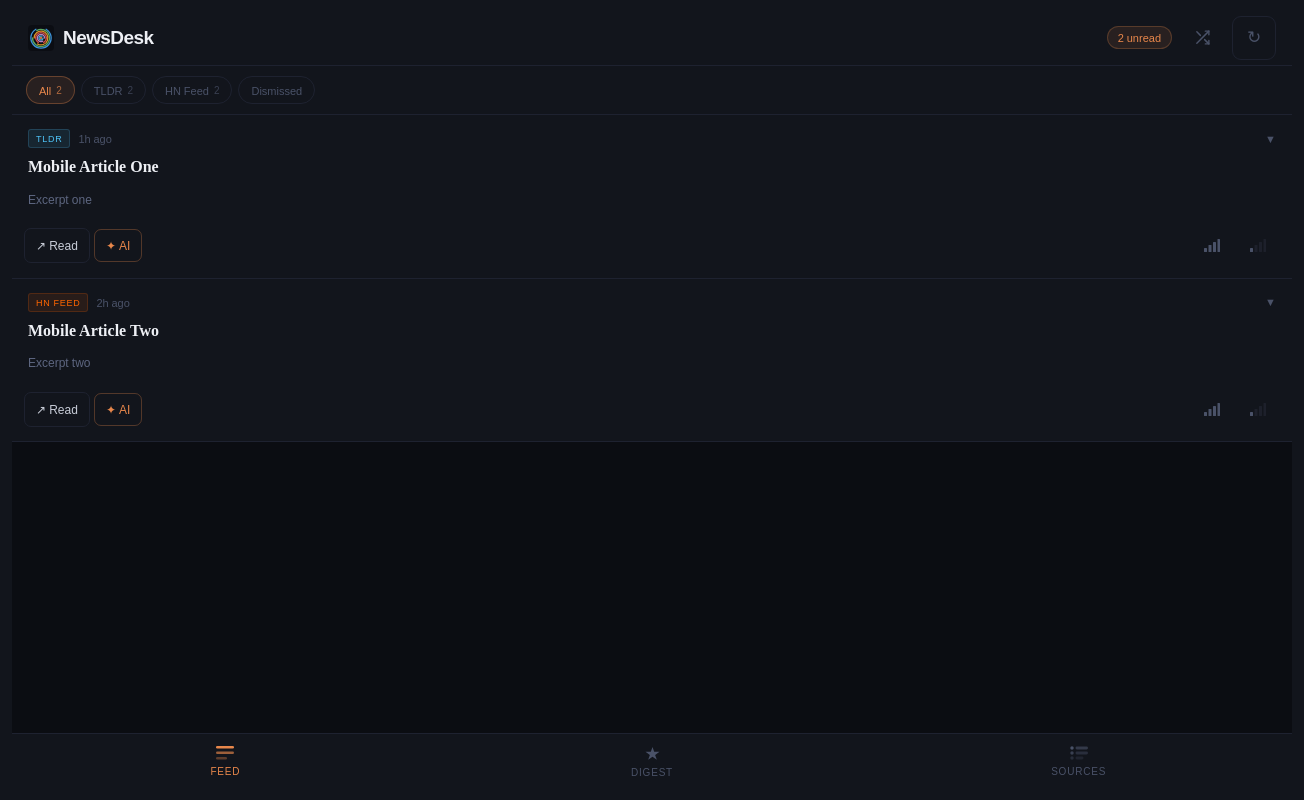
MobileApp — sources tab › shows '+ Add RSS source' button
Click the button "Sources".
click(1079, 762)  # box [865, 734, 1292, 790]
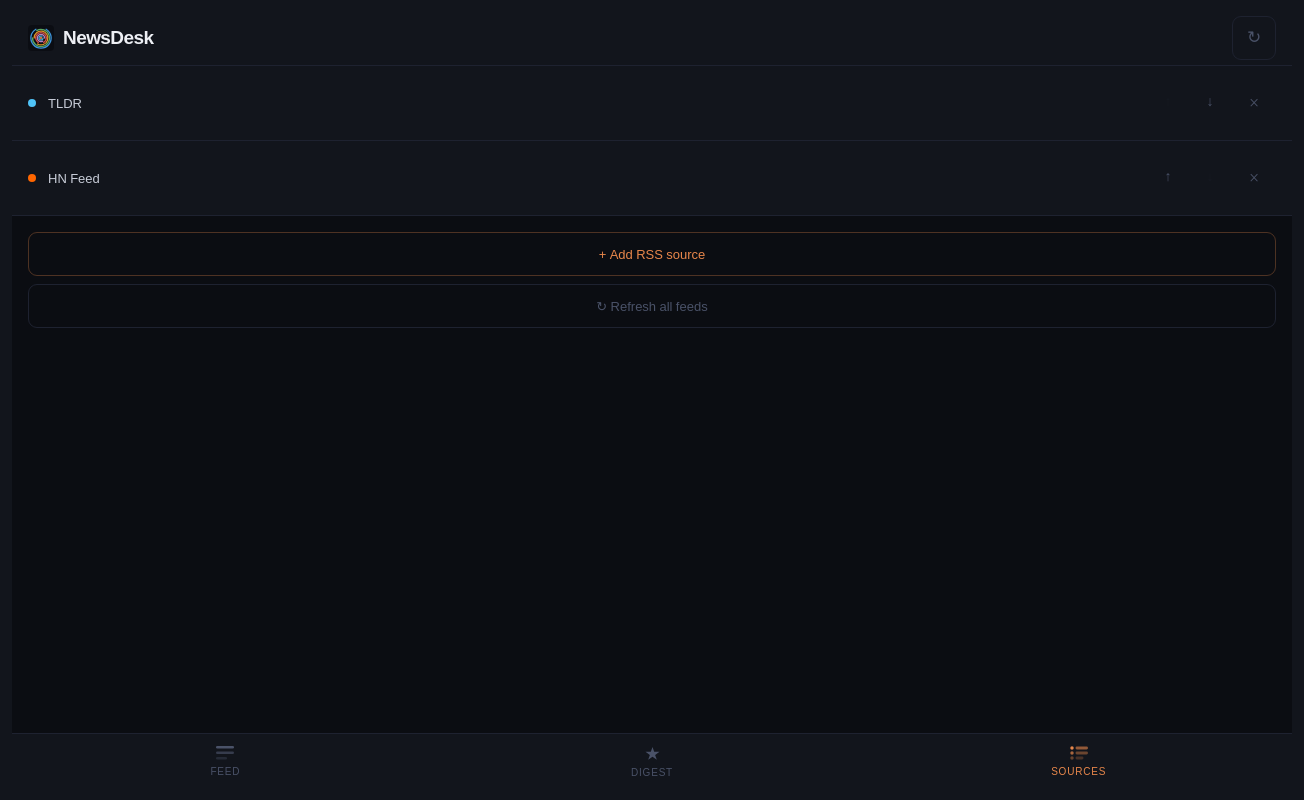
Expected: the button "+ Add RSS source" is shown, [28, 232, 1276, 276]
